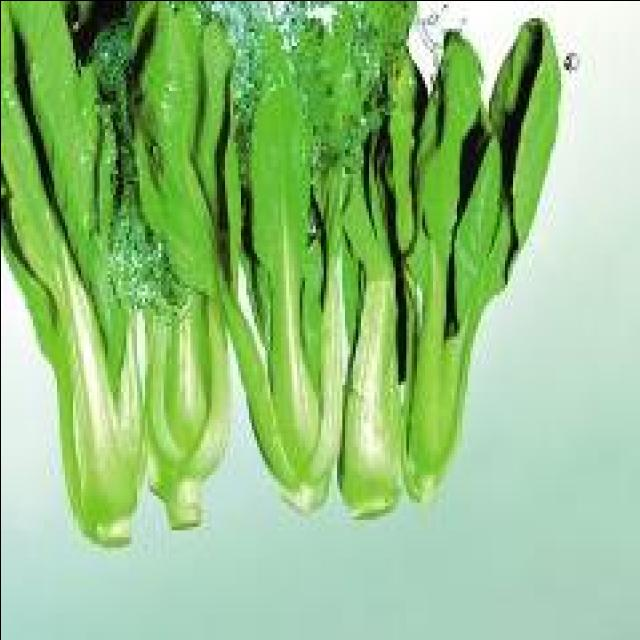-Kitchen waste - vegetable roots and leaves-: (130, 0, 342, 520), (388, 18, 558, 511), (0, 0, 144, 549), (142, 0, 230, 533), (337, 53, 403, 520)
